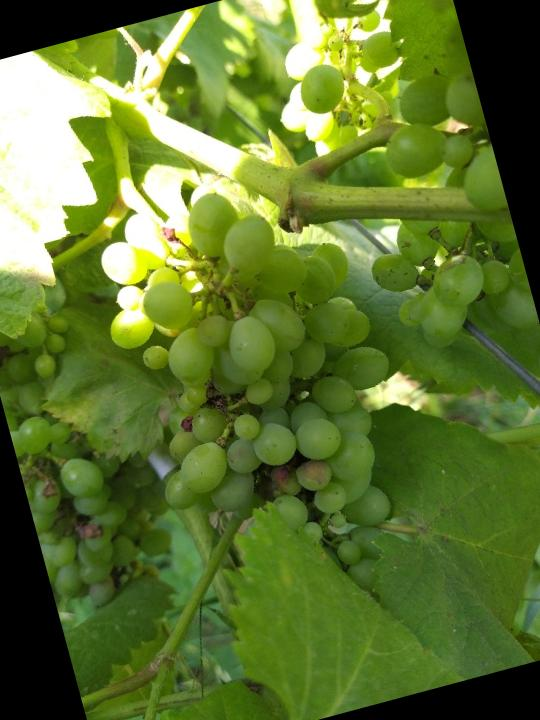grape: (77, 152, 445, 642)
